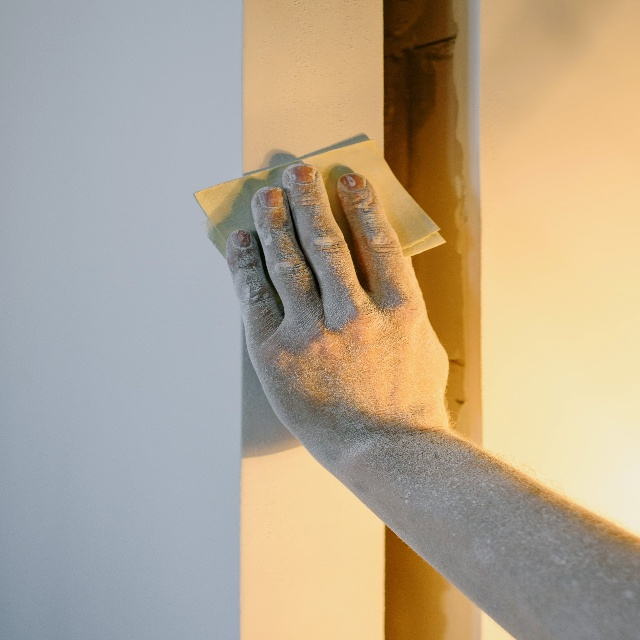Sin_guantes: (222, 164, 459, 467)
